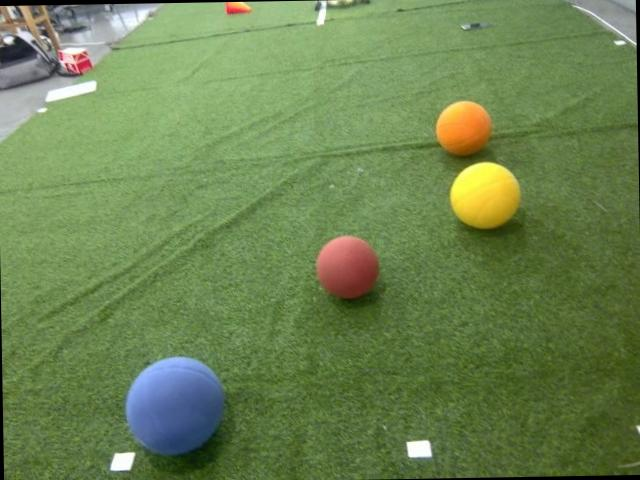blue_ball: (125, 356, 228, 458)
orange_ball: (434, 97, 492, 159)
red_ball: (314, 232, 381, 300)
yellow_ball: (449, 160, 523, 230)
